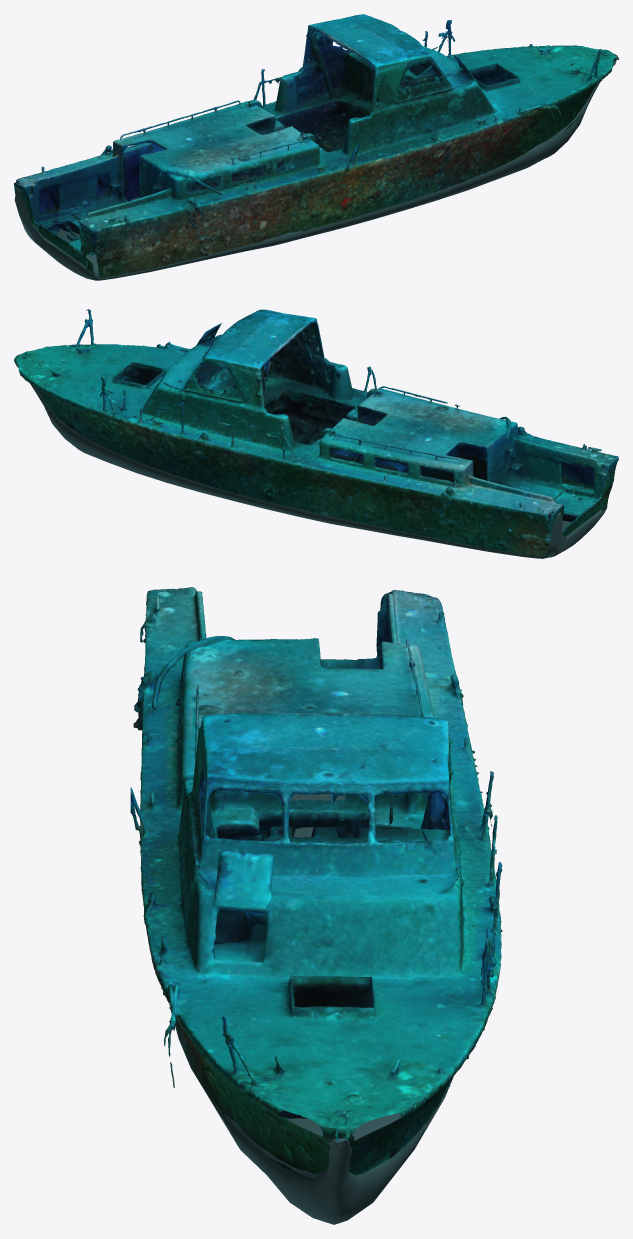
File: dive.glb
3 views of the same model, one above another, from view 1: azimuth 30°, elevation 25°; view 2: azimuth 150°, elevation 25°; view 3: azimuth 270°, elevation 25° (orthographic). The views are drawn at different scales.
Visible parts, largest first — view 1: yatush dive; view 2: yatush dive; view 3: yatush dive.
Boxes of the visible parts, x1,y1,x2,y2 form: yatush dive: (14, 14, 618, 280); yatush dive: (14, 309, 618, 558); yatush dive: (130, 587, 502, 1224).
Size of the model in its own units: 17.34 by 4.82 by 4.96.
2 materials, 1 textured.
